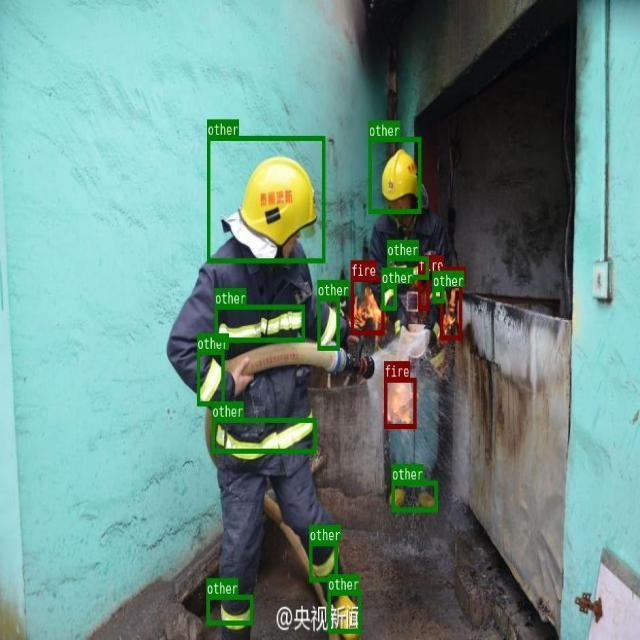fire: (350, 276, 384, 334), (384, 377, 416, 428), (440, 283, 461, 340), (418, 272, 429, 310)
